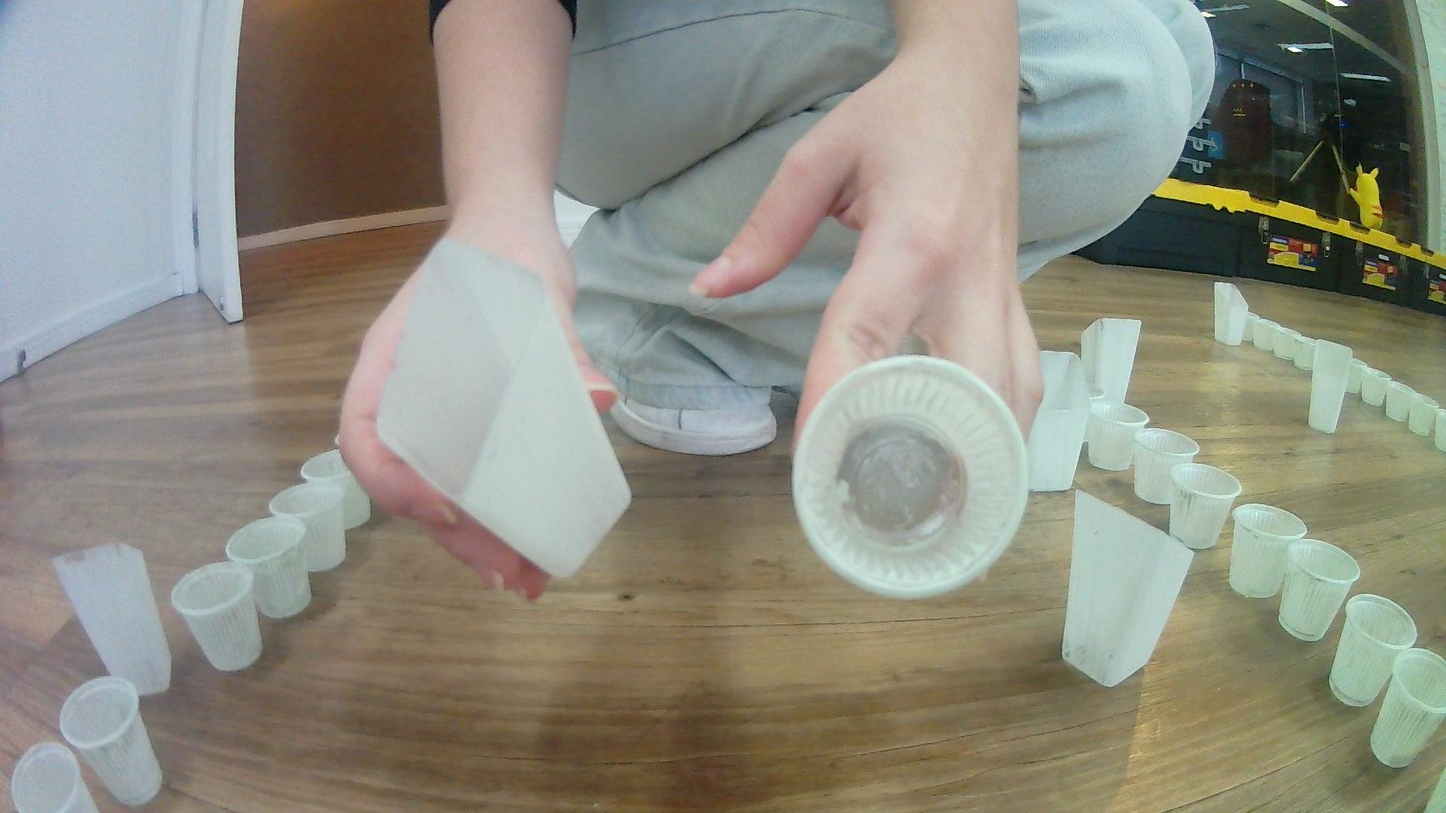erva_daninha: (374, 235, 634, 583), (1060, 488, 1195, 689), (49, 541, 173, 699), (1022, 350, 1091, 492), (1078, 318, 1142, 407), (1307, 338, 1354, 435), (1213, 281, 1250, 347)
planta: (789, 352, 1031, 603), (59, 675, 164, 808), (169, 563, 263, 672), (1328, 594, 1417, 708), (1369, 648, 1446, 769), (224, 516, 313, 620), (1278, 538, 1361, 642), (1228, 504, 1307, 599), (268, 483, 347, 574), (1168, 463, 1244, 551), (9, 741, 99, 813), (300, 449, 372, 531), (1133, 428, 1201, 506), (1086, 402, 1151, 473), (1408, 394, 1440, 437), (1383, 382, 1416, 422), (1246, 311, 1278, 351), (1362, 367, 1393, 407), (1344, 358, 1372, 396), (1273, 325, 1298, 362), (1293, 332, 1315, 371), (1432, 409, 1446, 452)
